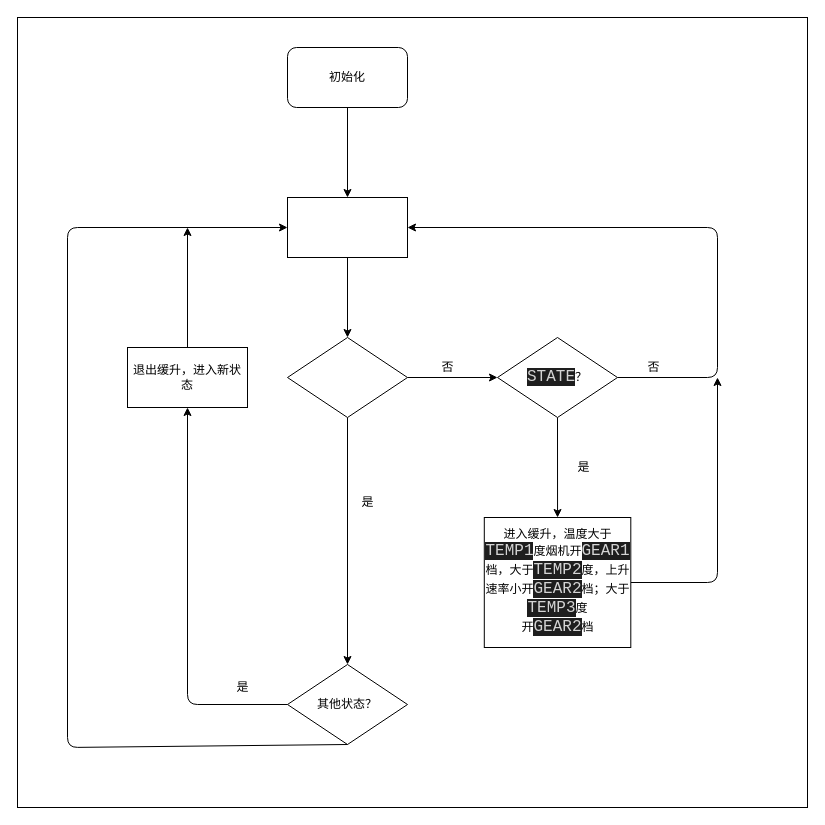
The diagram is 825 pixels wide and 825 high, and some of its shapes have lost their labels. Here are the shapes that lost their labels. From the top down, the centre of each, then its label:
At [347,227]: "获取温度".
At [347,377]: "缓升状态？".
